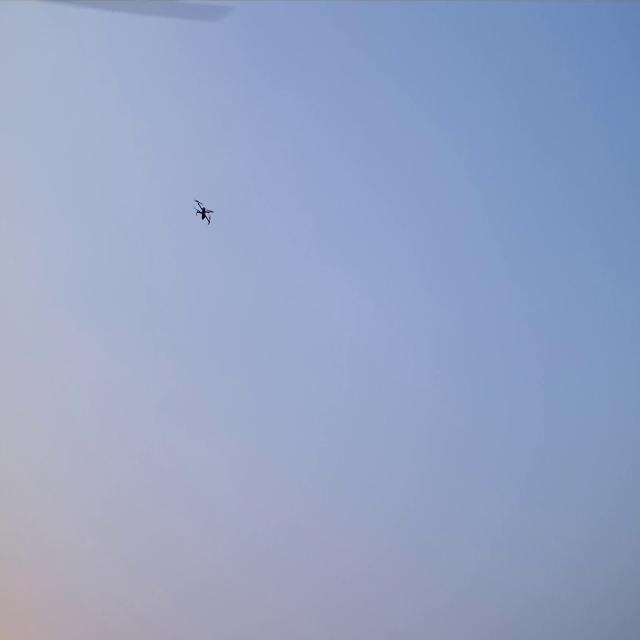UAV: (193, 195, 214, 227)
